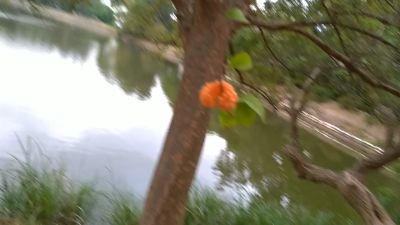eggs: (198, 81, 239, 111)
